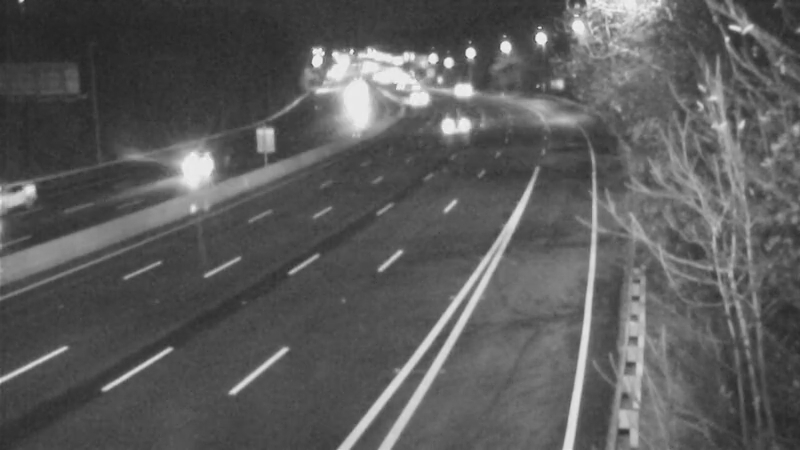vehicle: (147, 129, 227, 209), (1, 155, 69, 235), (433, 65, 483, 115), (394, 73, 444, 123), (422, 102, 472, 152)
